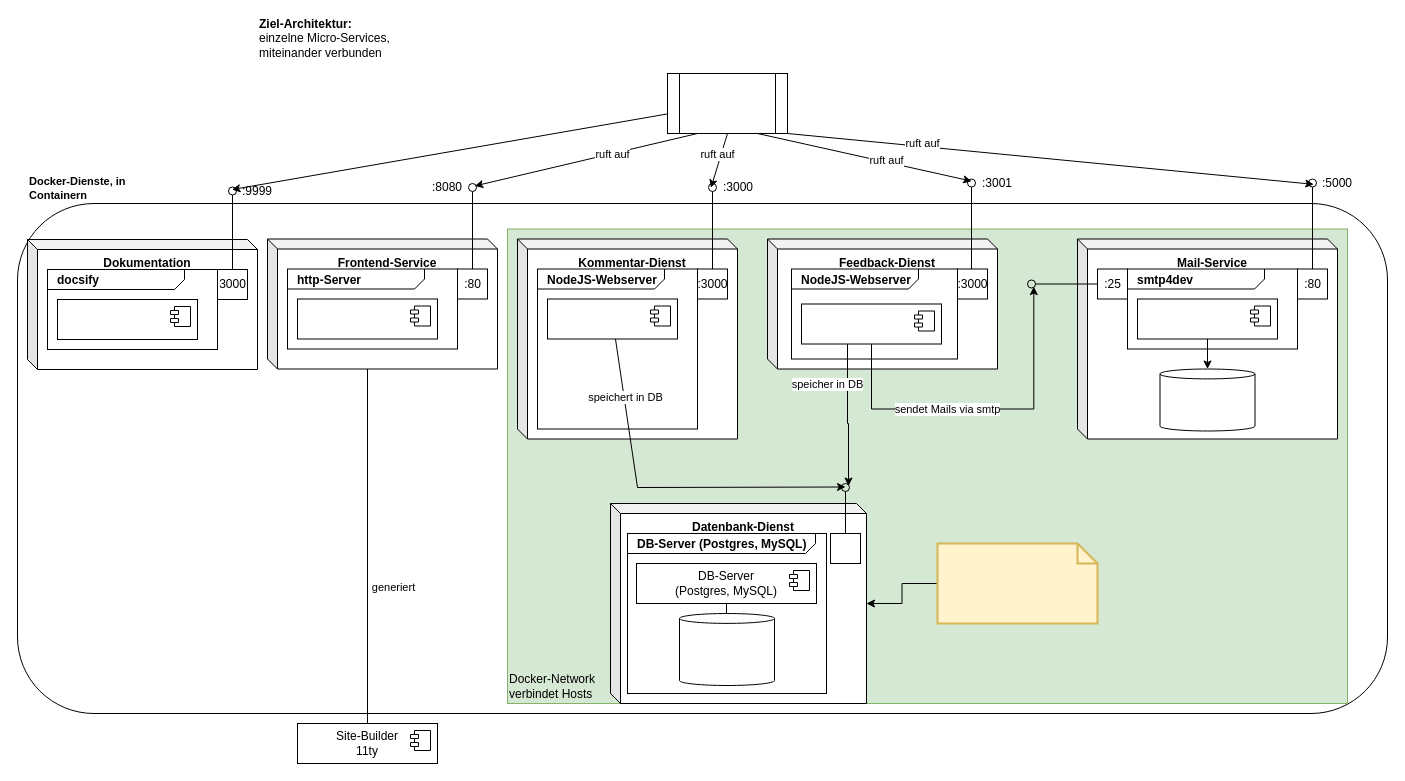
Image size: 1405x781. Some labels were removed from this diagram. The centre of each missing label's shape, as x and y in pixels:
":xx" belongs at point (845, 548).
"Client Browser" belongs at point (727, 103).
"DB-Server optional: alternative: persistente SQLite-DB in der App" belongs at point (1017, 583).
"Docker- Volume für Datenbank-Daten" belongs at point (726, 649).
"Docker- Volume für Maildaten" belongs at point (1207, 399).
"Form-Backend" belongs at point (871, 323).
"Kommentar- API" belongs at point (612, 318).
"Markdown-Doku" belongs at point (127, 319).
"smtp-Server und Web-App" belongs at point (1207, 318).
"statische Seiten" belongs at point (367, 318).
